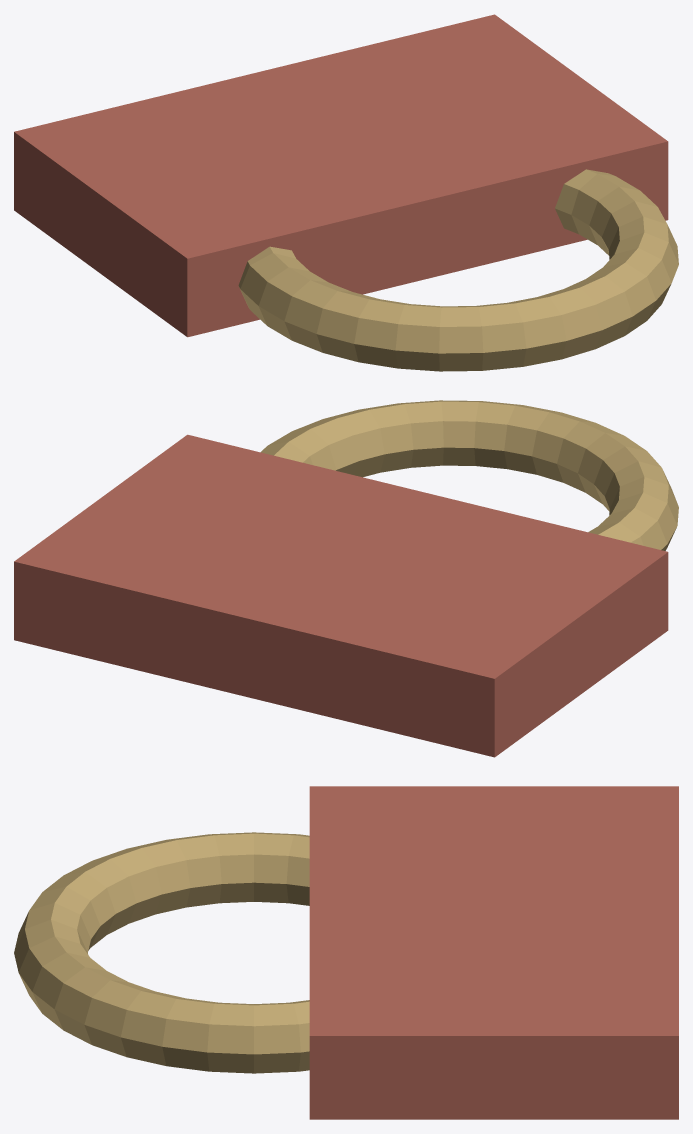
Rendered from sheng_sign_0.glb.
3 views of the same model, one above another, from view 1: azimuth 30°, elevation 25°; view 2: azimuth 150°, elevation 25°; view 3: azimuth 270°, elevation 25° (orthographic). The views are drawn at different scales.
Parts seen in each view (by area): view 1: world; view 2: world; view 3: world.
Boxes of the visible parts, x1,y1,x2,y2 form: world: [14, 14, 678, 371]; world: [14, 400, 678, 757]; world: [14, 786, 678, 1119].
Size of the model in its own units: 0.16 by 0.025 by 0.18.
